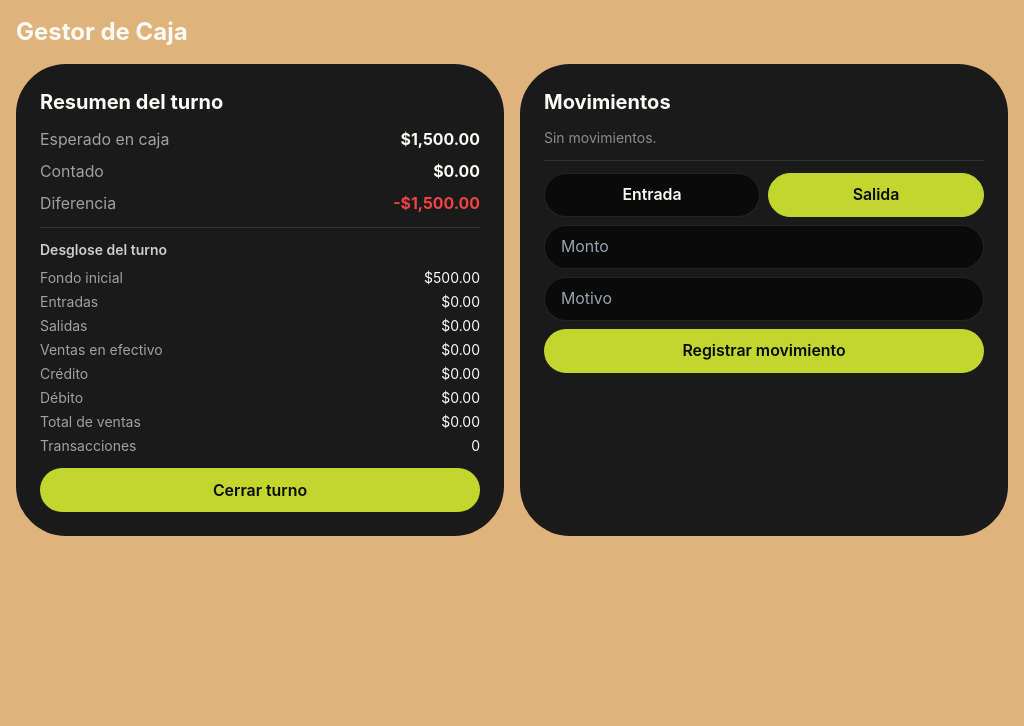
Test: F10.6.1 — criterio 1: el teclado aparece solo con un campo enfocado › muestra el teclado al enfocar el monto del movimiento
Check: the heading "Resumen del turno" is shown, box [40, 90, 223, 114]
Step 1. Focus the field with test id "campo-montoMov" → [764, 247], box [544, 225, 984, 269]
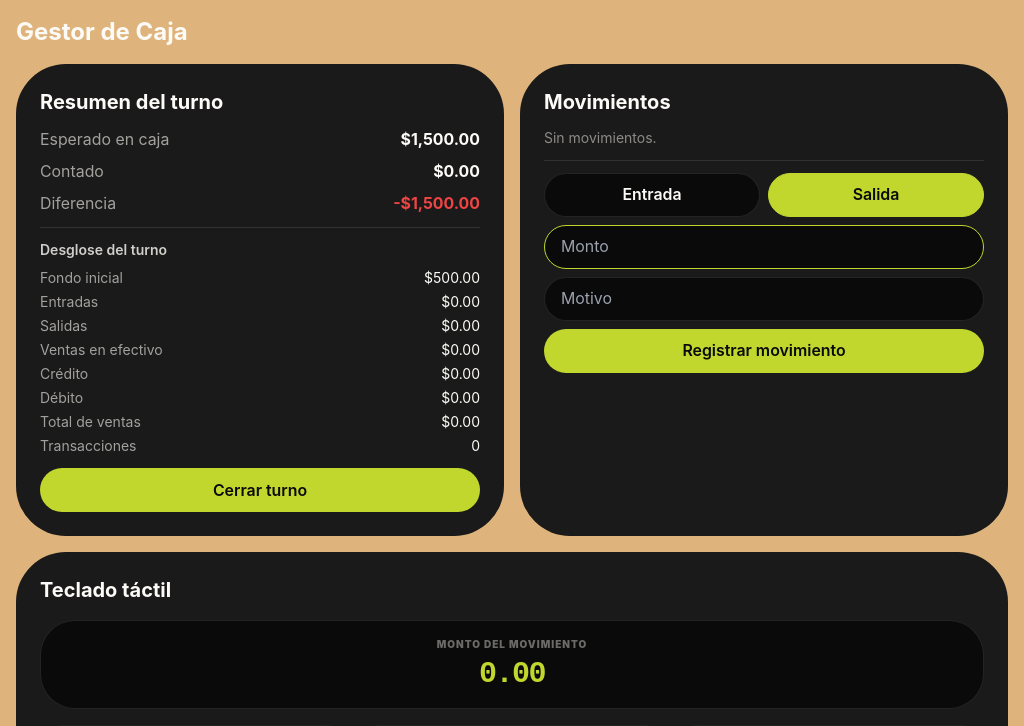
Check: the text "Monto del movimiento" is shown, box [437, 638, 587, 650]
